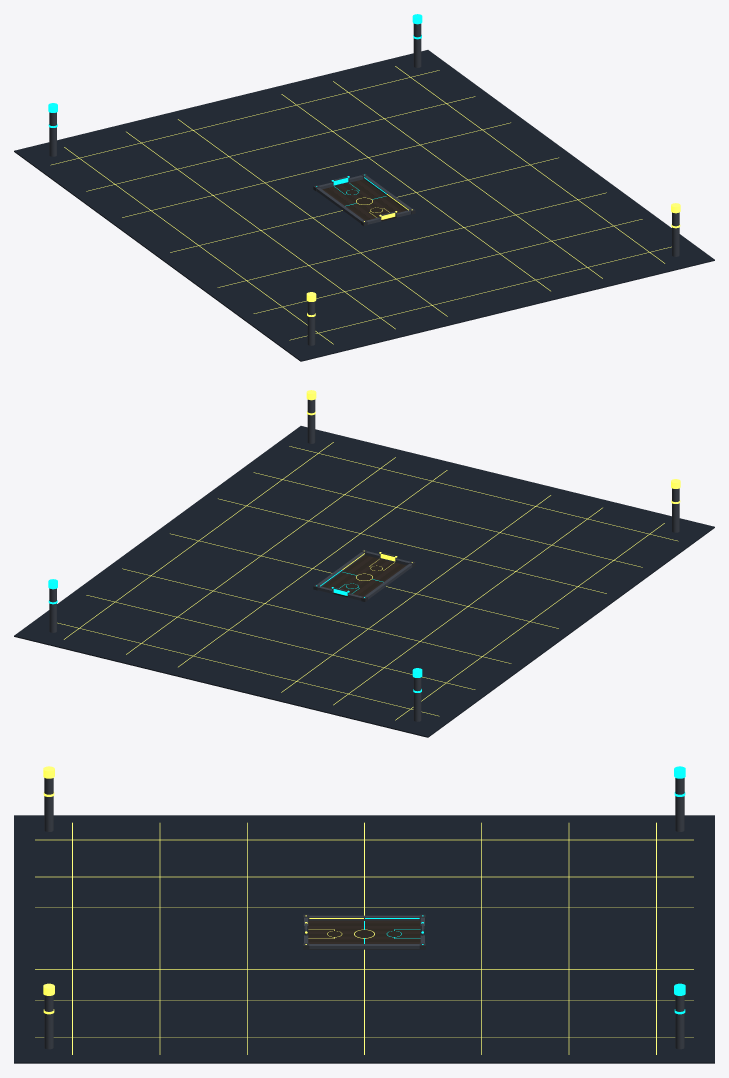
The model's file is mesa_neo_basketball.glb.
The picture shows the model from 3 angles, top to bottom: view 1: azimuth 30°, elevation 25°; view 2: azimuth 150°, elevation 25°; view 3: azimuth 270°, elevation 25°; orthographic projection. The views are drawn at different scales.
Parts seen in each view (by area): view 1: ArenaStadiumFloor, TablePlaySurface; view 2: ArenaStadiumFloor, TablePlaySurface; view 3: ArenaStadiumFloor, TablePlaySurface, Cube.033, Cube.032, RailRight, Cube.035, Cube.034, Cube.037, Cube.036, RailLeft, Cylinder.021, Cylinder.027 (+2 smaller).
Boxes of the visible parts, <box> form: ArenaStadiumFloor: <box>14,50,714,361</box>; TablePlaySurface: <box>323,179,406,221</box>; ArenaStadiumFloor: <box>14,426,714,737</box>; TablePlaySurface: <box>322,555,405,597</box>; ArenaStadiumFloor: <box>14,815,714,1063</box>; TablePlaySurface: <box>308,921,420,949</box>; Cube.033: <box>35,876,693,877</box>; Cube.032: <box>35,839,693,840</box>; RailRight: <box>309,944,419,949</box>; Cube.035: <box>35,969,693,969</box>; Cube.034: <box>35,907,693,907</box>; Cube.037: <box>35,1037,693,1037</box>; Cube.036: <box>35,1000,693,1000</box>; RailLeft: <box>309,915,419,920</box>; Cylinder.021: <box>44,995,53,1049</box>; Cylinder.027: <box>675,995,684,1049</box>.
Bounding box in the file's own units: 10 × 1.18 × 12.
